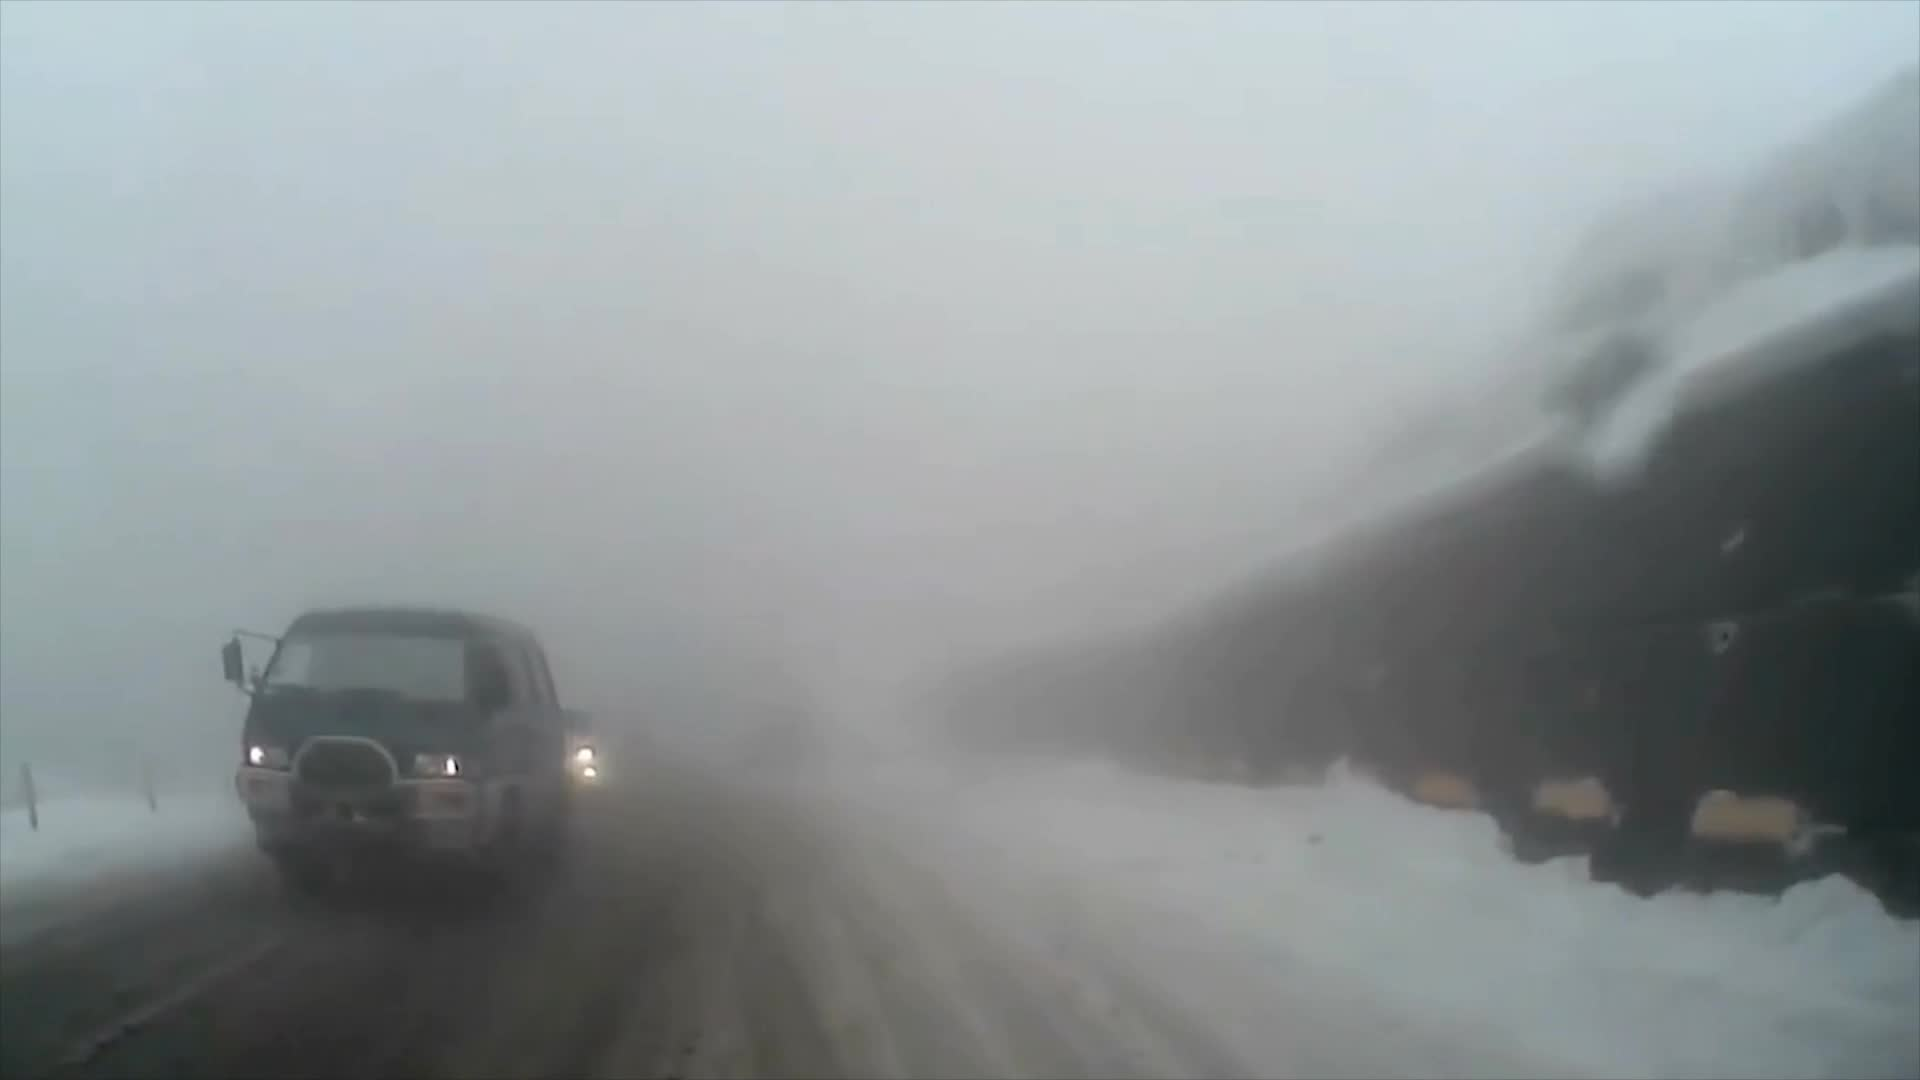vehicle: (218, 600, 574, 923)
